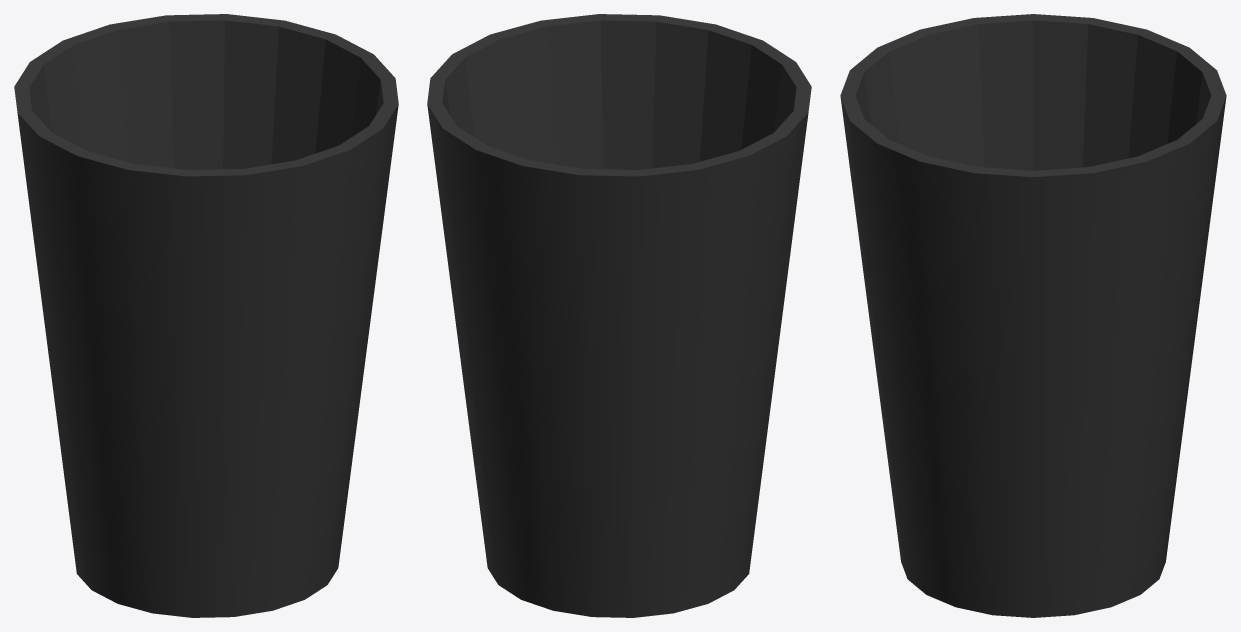
Rendered from Cup.fbx.
3 views of the same model, side by side, from view 1: azimuth 30°, elevation 25°; view 2: azimuth 150°, elevation 25°; view 3: azimuth 270°, elevation 25° (orthographic).
Visible parts, largest first — view 1: pCylinder10; view 2: pCylinder10; view 3: pCylinder10.
Part boxes in pixels (left/top/right/bottom): pCylinder10: left=14, top=14, right=398, bottom=617; pCylinder10: left=427, top=14, right=811, bottom=617; pCylinder10: left=840, top=14, right=1226, bottom=617.
Bounding box in the file's own units: 24.76 × 33 × 24.76.
